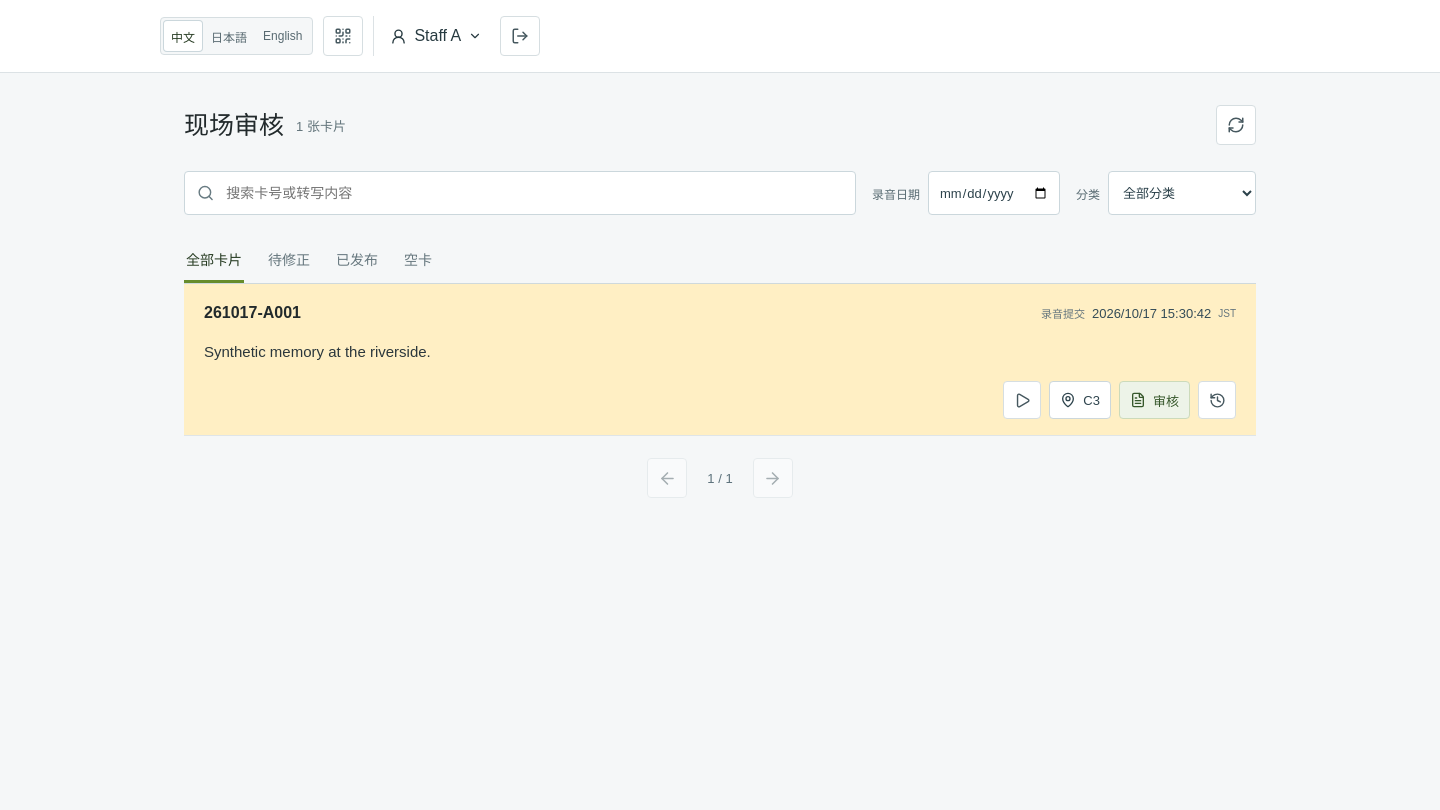
Test: staff website › immediately marks a retried card pending while the list refresh is still in flight
Click the button with aria-label "审核 261017-A001" at (1154, 400), box top-left (1119, 381), bottom-right (1190, 419)
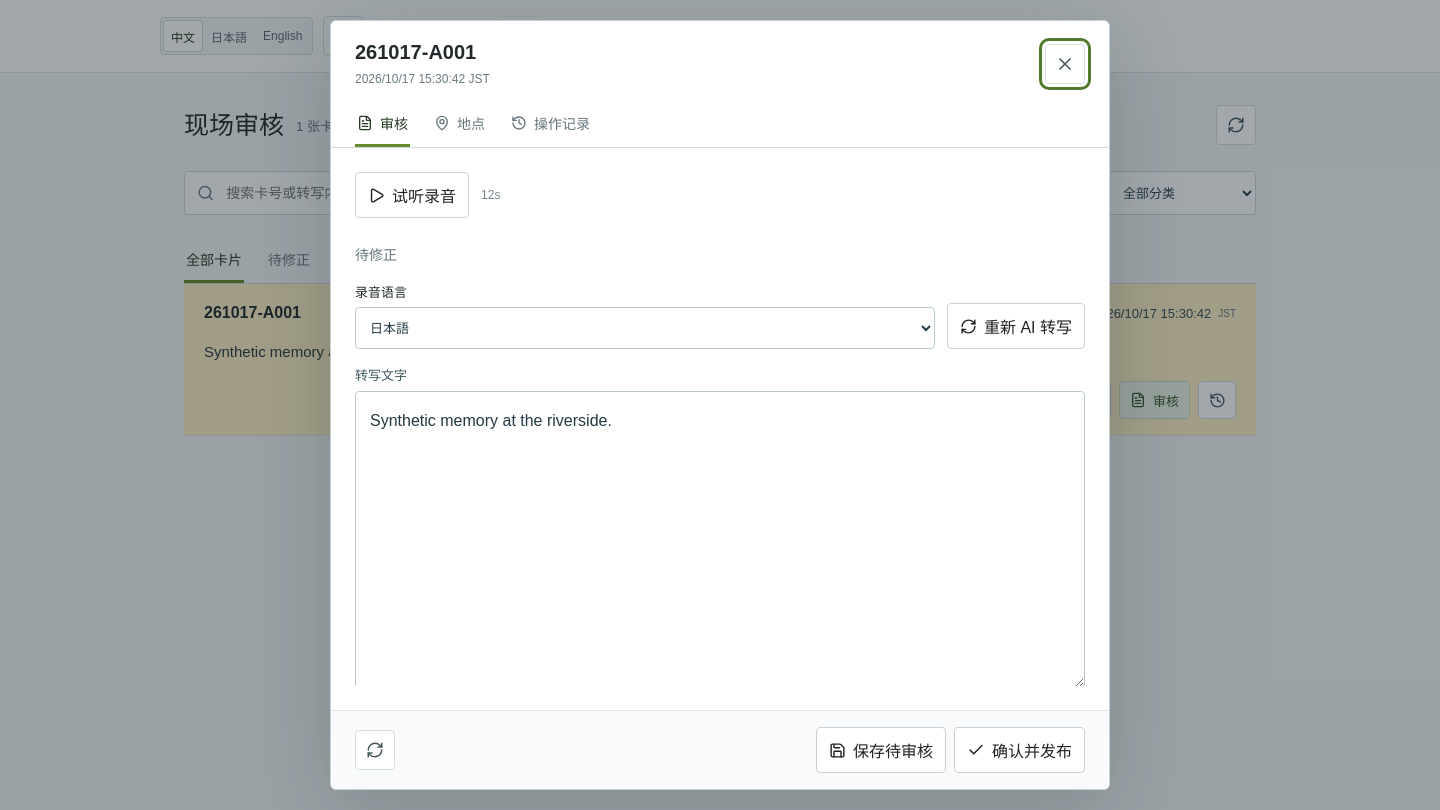
Click the button "重新 AI 转写" at (1016, 326), box top-left (947, 303), bottom-right (1085, 349)
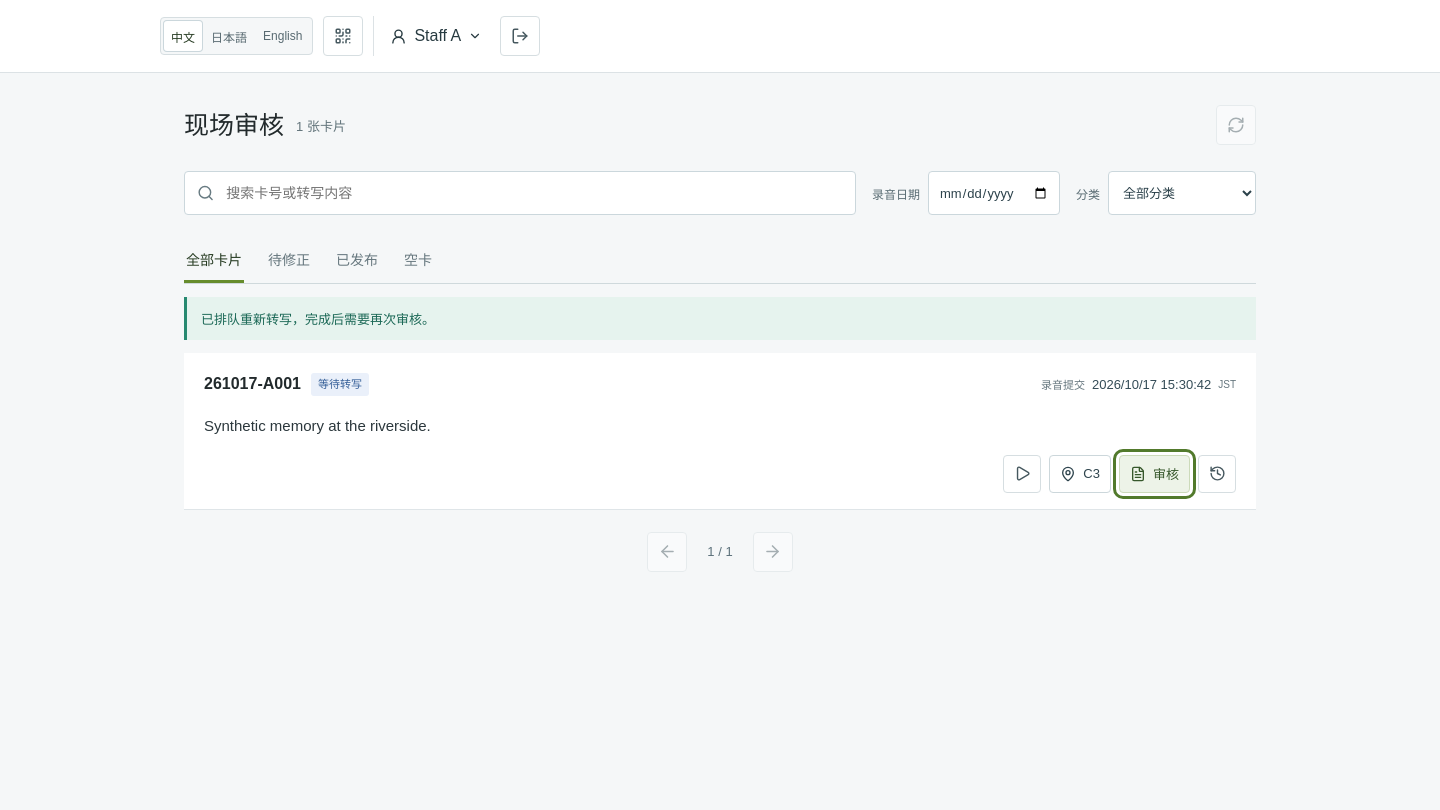
Expected: the text "已排队重新转写，完成后需要再次审核。" is shown, top-left (184, 297), bottom-right (1256, 340)
Click the button with aria-label "审核 261017-A001" at (1154, 474), box top-left (1119, 454), bottom-right (1190, 492)
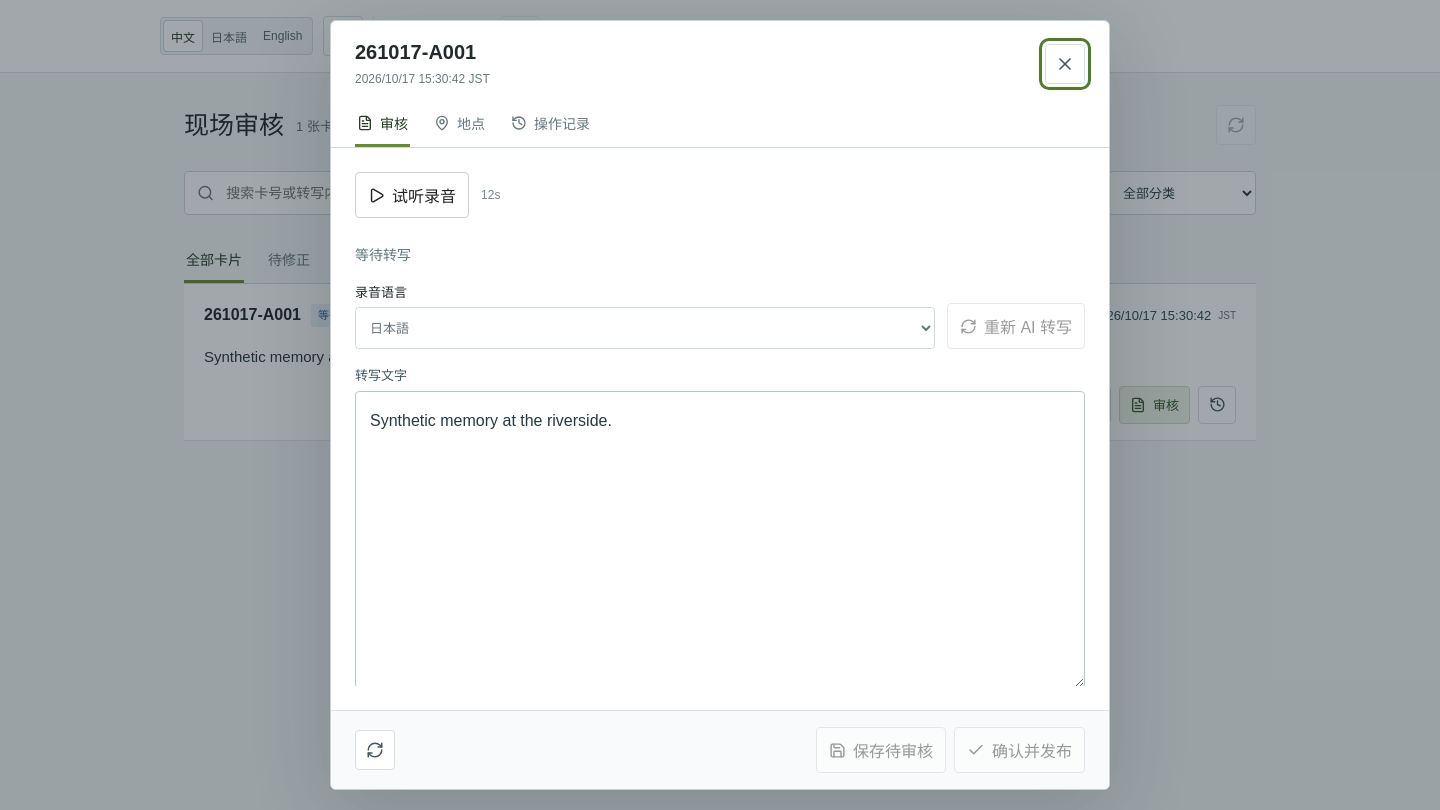
Expected: the button "确认并发布" is disabled, top-left (954, 727), bottom-right (1085, 773)
Expected: the button "重新 AI 转写" is disabled, top-left (947, 303), bottom-right (1085, 349)
